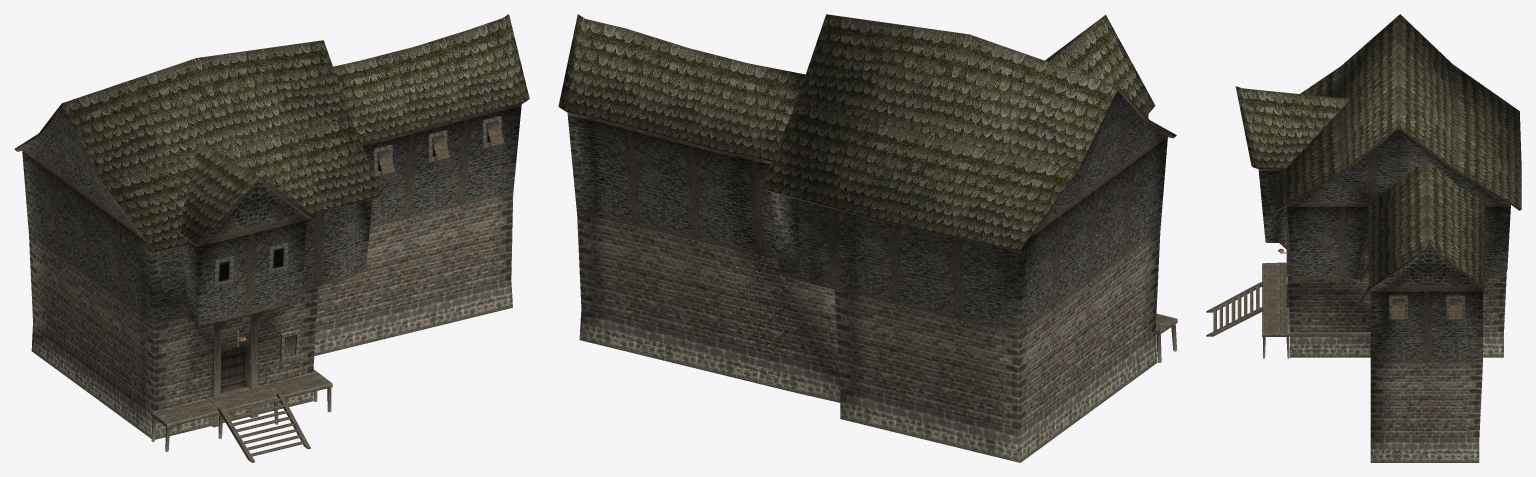
Rendered from OZ_09_kn_house01E.glb.
3 views of the same model, side by side, from view 1: azimuth 30°, elevation 25°; view 2: azimuth 150°, elevation 25°; view 3: azimuth 270°, elevation 25° (orthographic). The views are drawn at different scales.
Parts seen in each view (by area): view 1: OM_09_kn_house01E; view 2: OM_09_kn_house01E; view 3: OM_09_kn_house01E.
Part boxes in pixels (x1,y1,x2,y2): OM_09_kn_house01E: (14,14,529,462); OM_09_kn_house01E: (558,14,1177,462); OM_09_kn_house01E: (1206,14,1521,462).
Size of the model in its own units: 25.22 by 16.19 by 16.85.
Materials: 7 (7 with a texture image).
